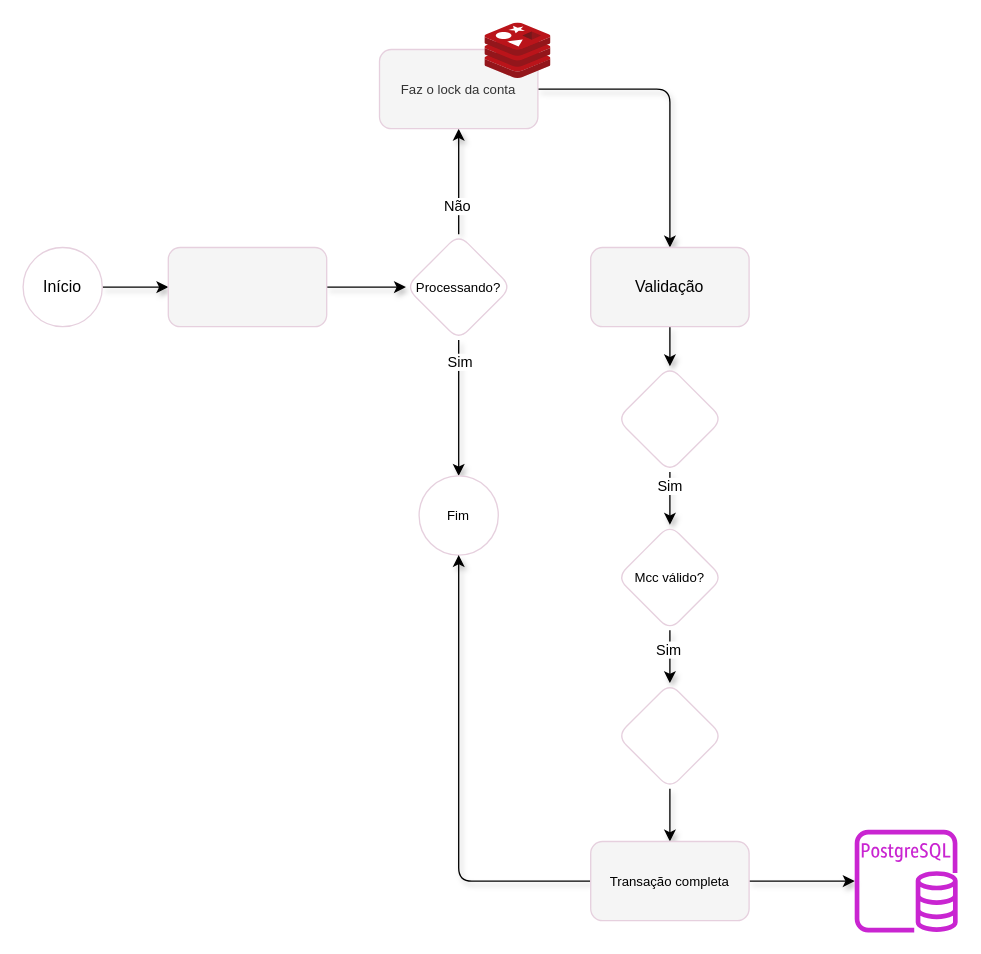
Some shapes in this 981 by 954 pixel diagram are drawn without their labels. Here are the shapes that lost their labels. From the top down, the centre of each, then its label:
At point (247, 286): "transação".
At point (669, 418): "Cartão valido?".
At point (669, 735): "Saldo suficiente?".
